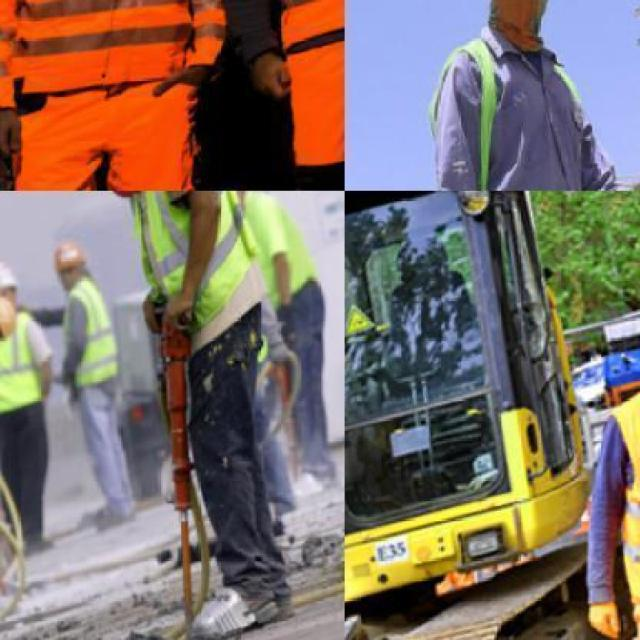Vest: (392, 6, 634, 189), (0, 0, 263, 140), (114, 191, 280, 357), (48, 282, 126, 402), (0, 303, 58, 426)
